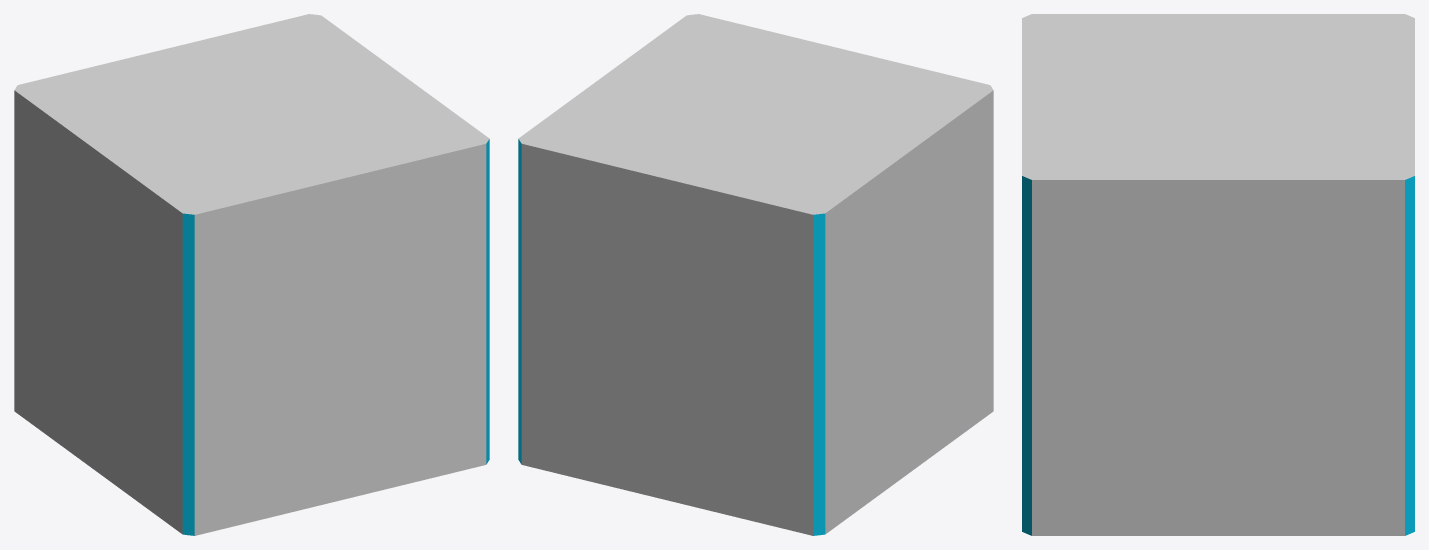
The model's file is neon_white_pillar_1x1.obj.
3 views of the same model, side by side, from view 1: azimuth 30°, elevation 25°; view 2: azimuth 150°, elevation 25°; view 3: azimuth 270°, elevation 25° (orthographic). The views are drawn at different scales.
Visible parts, largest first — view 1: neon_white_pillar_1x1; view 2: neon_white_pillar_1x1; view 3: neon_white_pillar_1x1.
Part boxes in pixels (x1,y1,x2,y2): neon_white_pillar_1x1: [14, 14, 489, 535]; neon_white_pillar_1x1: [518, 14, 993, 535]; neon_white_pillar_1x1: [1022, 14, 1414, 535].
Bounding box in the file's own units: 1 × 1 × 1.
